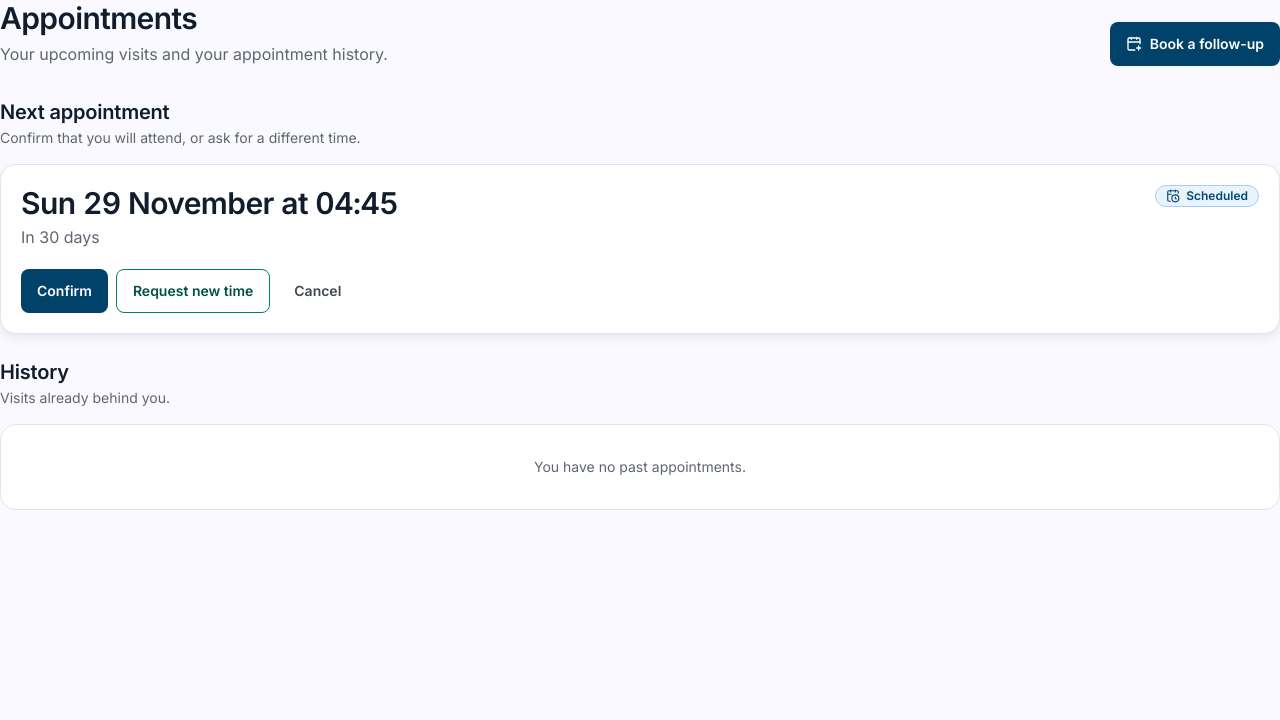
Test: patient cancelling an appointment › asks first, naming when, and sends nothing yet
The image size is (1280, 720).
Step 1. Click the button "Cancel" → (318, 291), box [278,269,357,313]
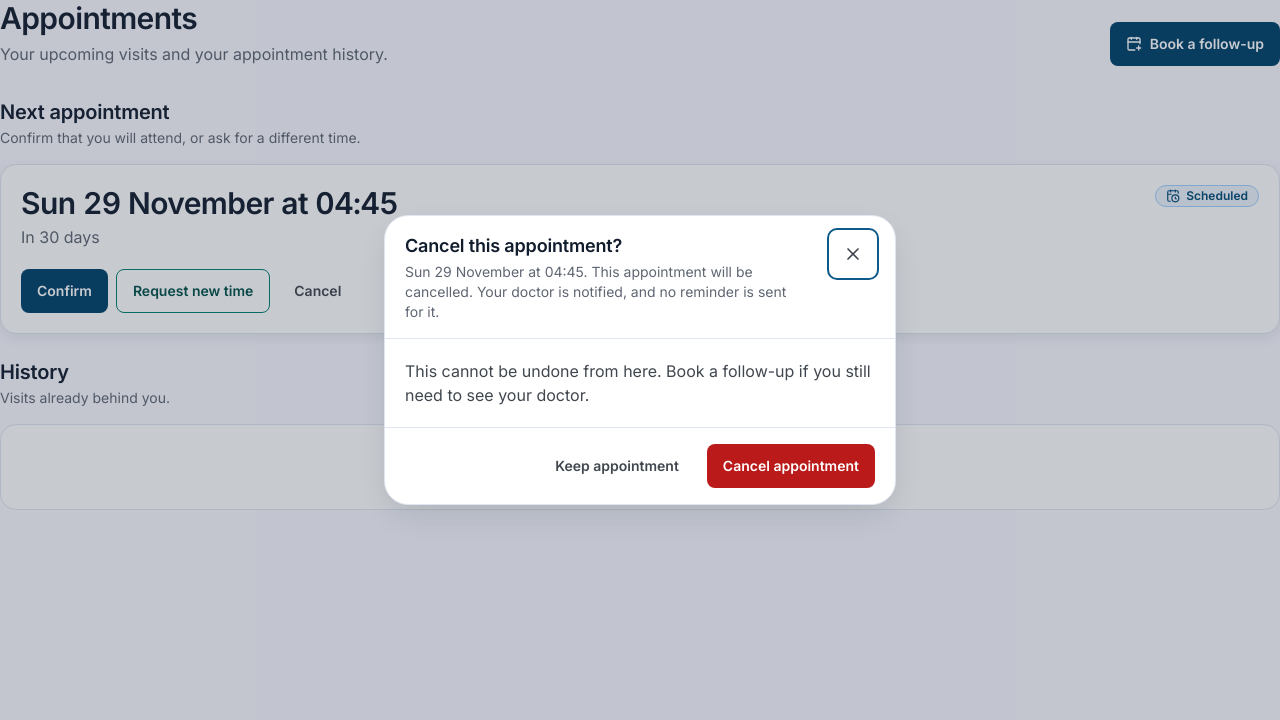
Result: the heading "Cancel this appointment?" is shown at [405,235,622,256]
